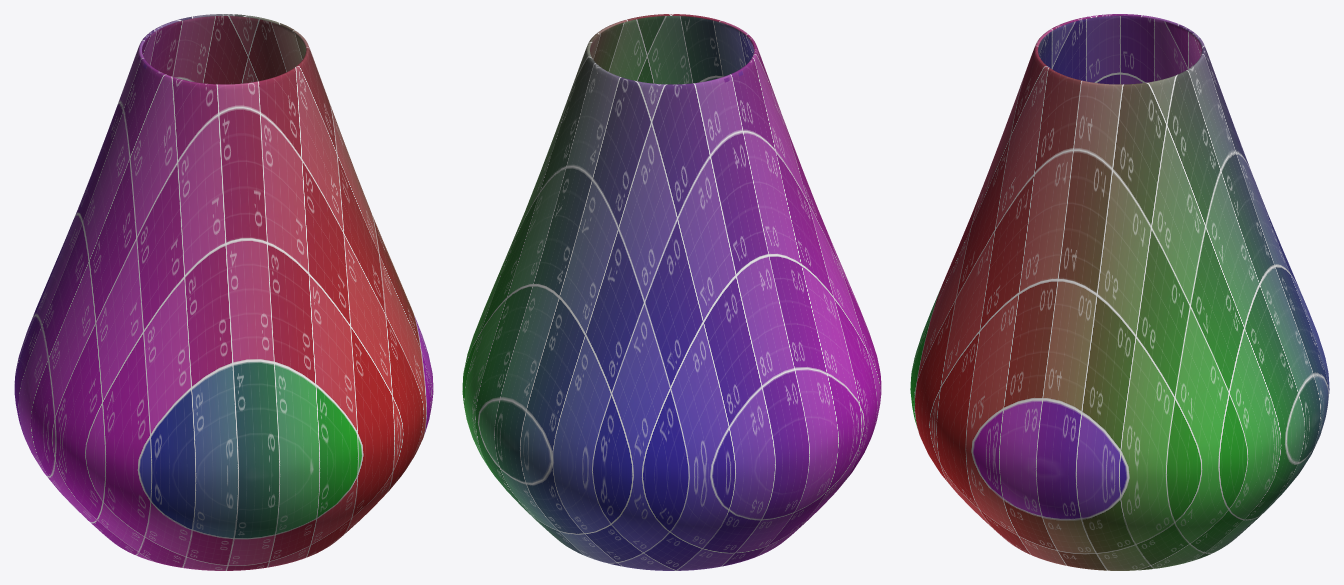
Rendered from Small vase.fbx.
3 renders of one model, left to right at view 1: azimuth 30°, elevation 25°; view 2: azimuth 150°, elevation 25°; view 3: azimuth 270°, elevation 25°, orthographic.
Visible parts, largest first — view 1: Connect; view 2: Connect; view 3: Connect.
Boxes of the visible parts, x1=… form: Connect: x1=14, y1=14, x2=433, y2=570; Connect: x1=462, y1=14, x2=881, y2=570; Connect: x1=910, y1=14, x2=1329, y2=570.
Size of the model in its own units: 271 by 335 by 271.
1 material, 1 textured.
